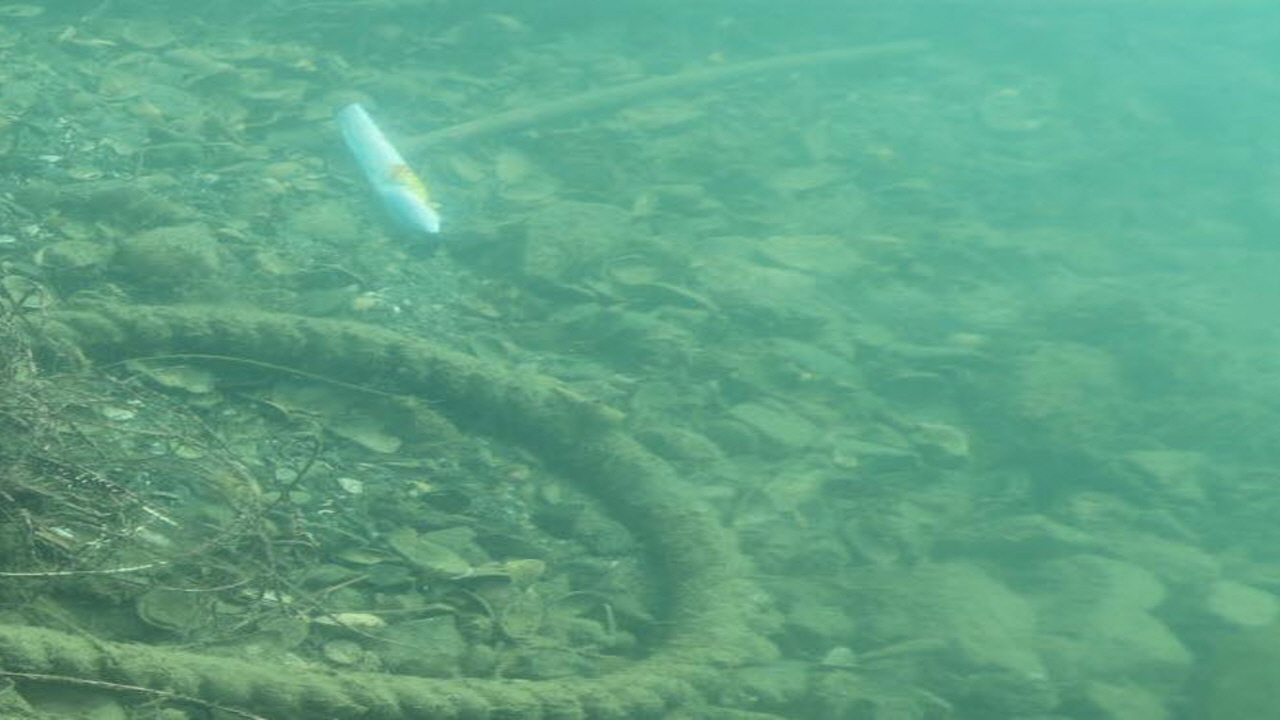rope: (1, 303, 757, 720)
